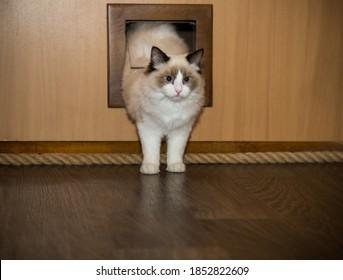ragdoll: (139, 35, 215, 114)
